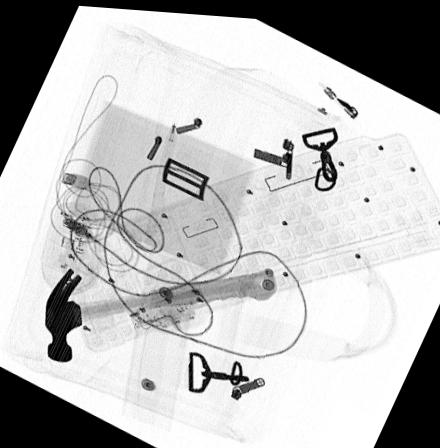Hammer: (45, 260, 278, 361)
